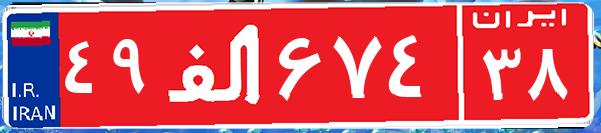3: (475, 38, 525, 113)
4: (385, 28, 445, 110), (57, 26, 110, 107)
6: (273, 28, 330, 110)
7: (330, 28, 385, 110)
8: (525, 38, 570, 115)
9: (110, 28, 158, 105)
الف: (158, 15, 273, 115)
